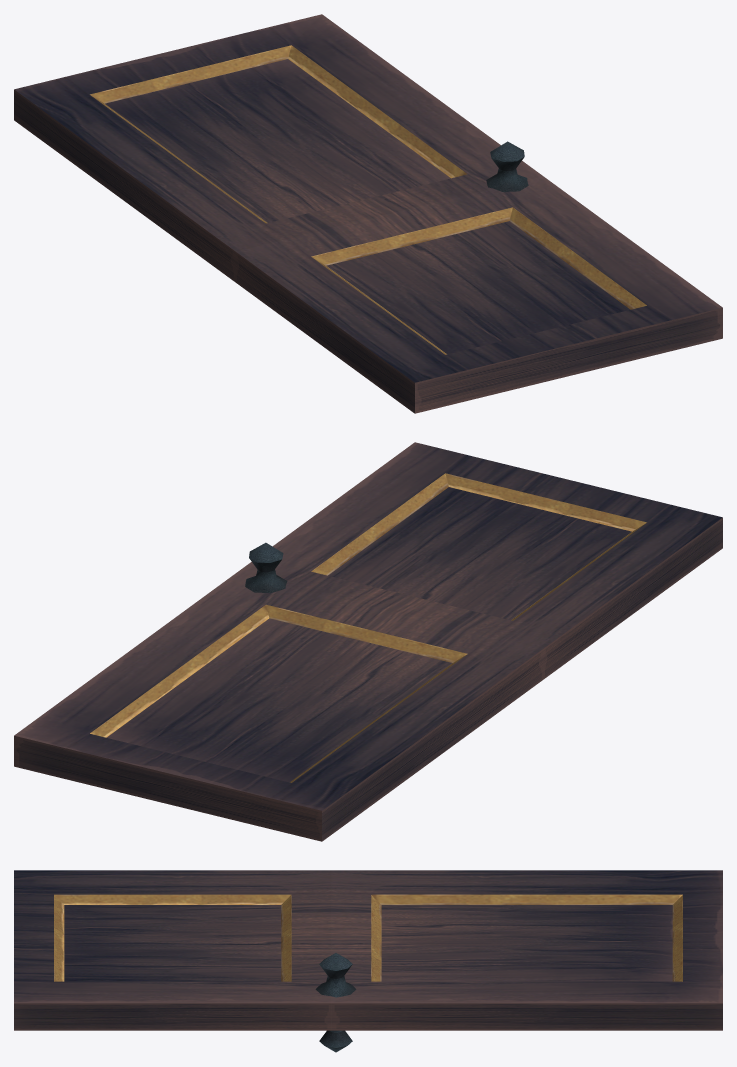
The model's file is Door_D.fbx.
3 renders of one model, top to bottom at view 1: azimuth 30°, elevation 25°; view 2: azimuth 150°, elevation 25°; view 3: azimuth 270°, elevation 25°, orthographic. The views are drawn at different scales.
Visible parts, largest first — view 1: Door_D; view 2: Door_D; view 3: Door_D.
Boxes of the visible parts, bbox=[...] form: Door_D: bbox=[14, 14, 722, 413]; Door_D: bbox=[14, 442, 722, 841]; Door_D: bbox=[14, 870, 722, 1052].
Size of the model in its own units: 18.3 by 6.42 by 41.26.
